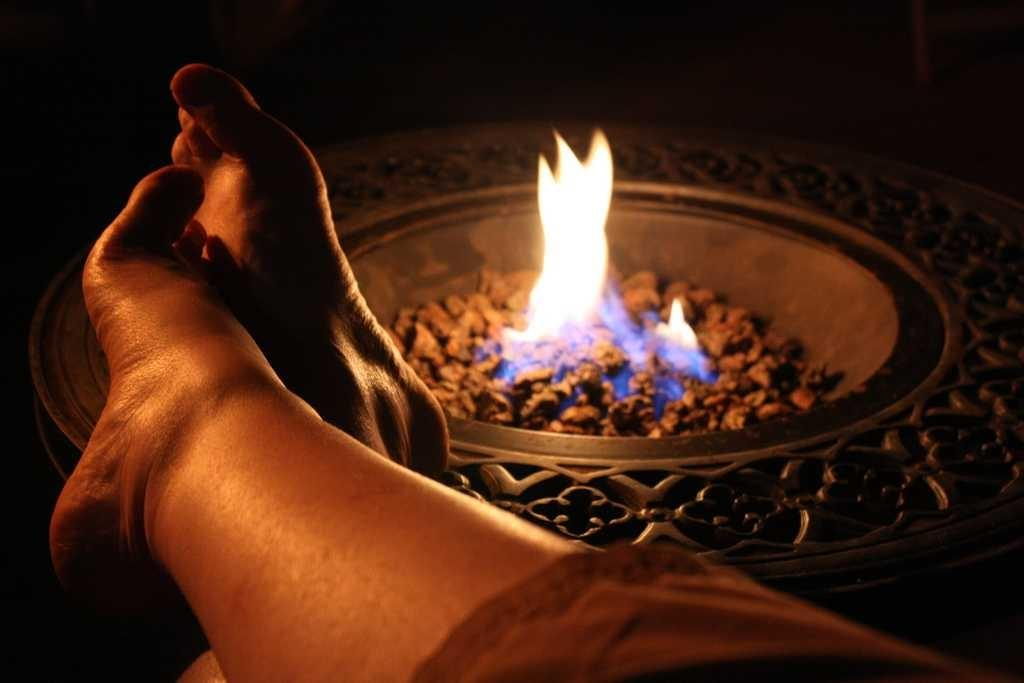fire: (545, 178, 618, 323)
